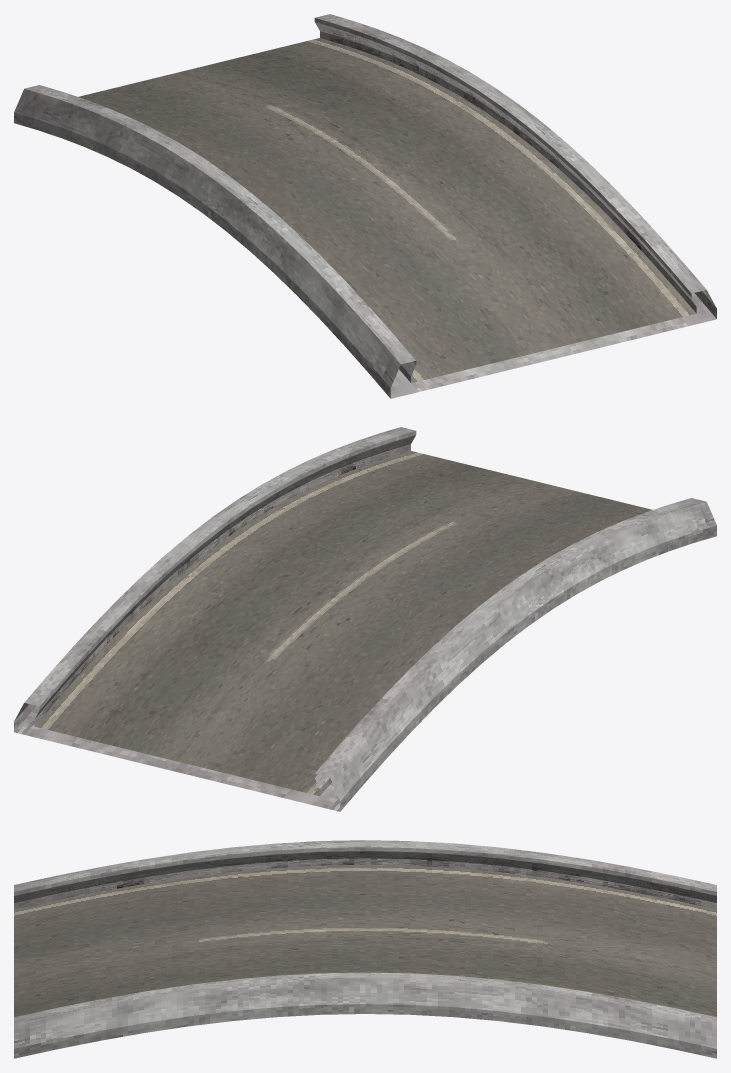
The model's file is road-Straight-BiSlopeUp-BiSlopeDown-Even-Center-Size2.glb.
3 renders of one model, top to bottom at view 1: azimuth 30°, elevation 25°; view 2: azimuth 150°, elevation 25°; view 3: azimuth 270°, elevation 25°, orthographic. The views are drawn at different scales.
Visible parts, largest first — view 1: road-Straight-BiSlopeUp-BiSlopeDown-Even-Center-Size2; view 2: road-Straight-BiSlopeUp-BiSlopeDown-Even-Center-Size2; view 3: road-Straight-BiSlopeUp-BiSlopeDown-Even-Center-Size2.
Part boxes in pixels (x1,y1,x2,y2): road-Straight-BiSlopeUp-BiSlopeDown-Even-Center-Size2: (14,14,716,398); road-Straight-BiSlopeUp-BiSlopeDown-Even-Center-Size2: (14,427,716,811); road-Straight-BiSlopeUp-BiSlopeDown-Even-Center-Size2: (14,840,716,1058).
Size of the model in its own units: 1 by 0.2344 by 2.
Materials: 2 (2 with a texture image).
